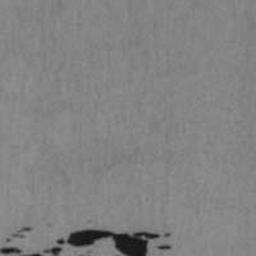Inclusion: (0, 225, 174, 256), (5, 225, 33, 242)
